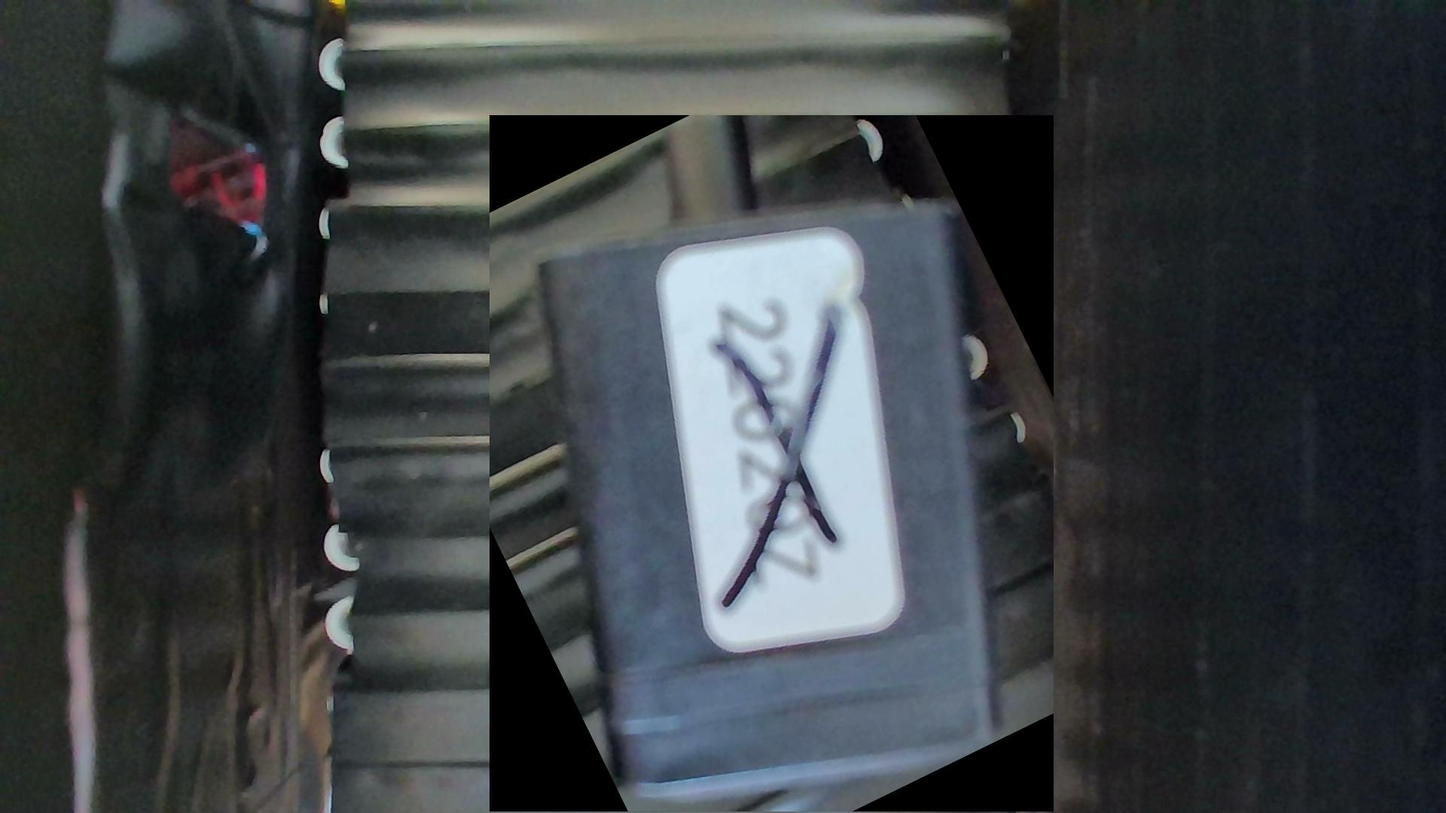motor: (490, 116, 1054, 813)
